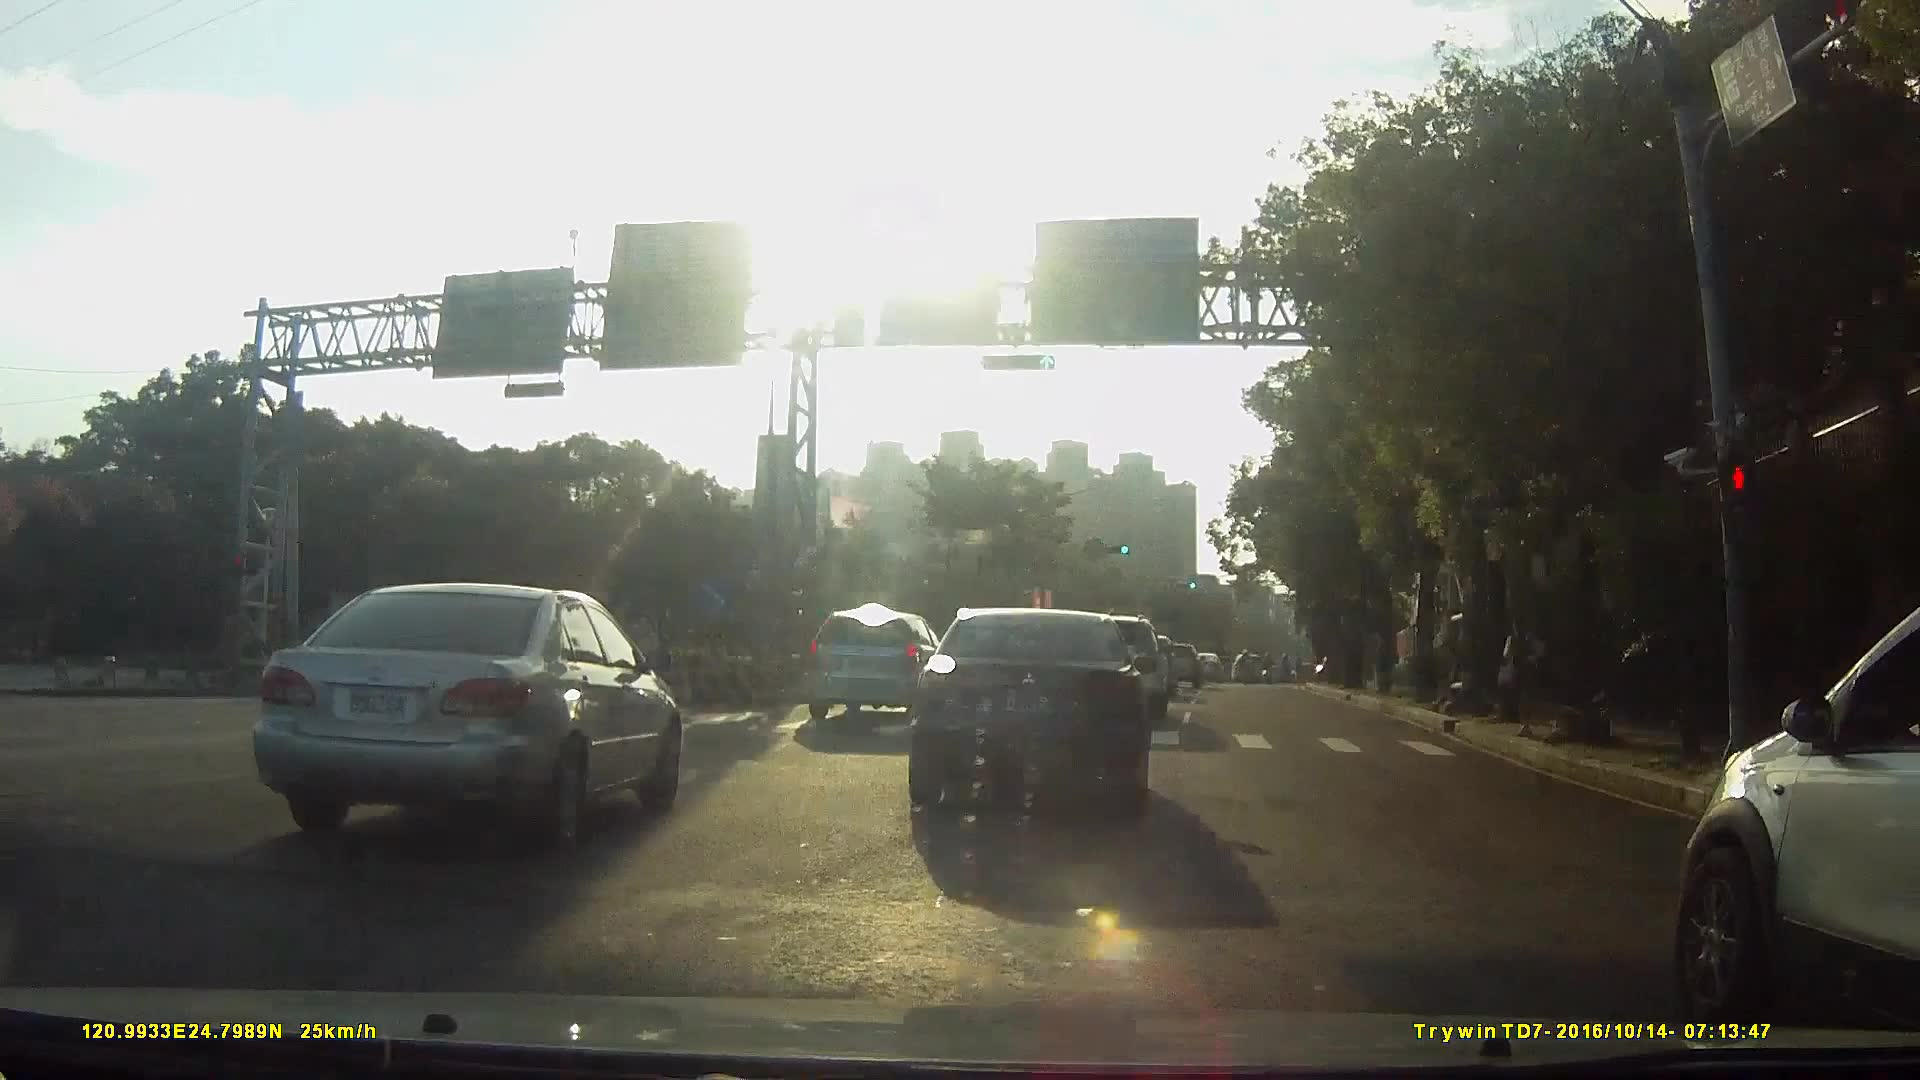pedestrian: (1493, 612, 1551, 735)
vehicle: (1620, 562, 1920, 1031), (227, 576, 686, 850), (887, 605, 1159, 816), (793, 604, 940, 719), (1146, 640, 1194, 688), (1181, 652, 1214, 680)
